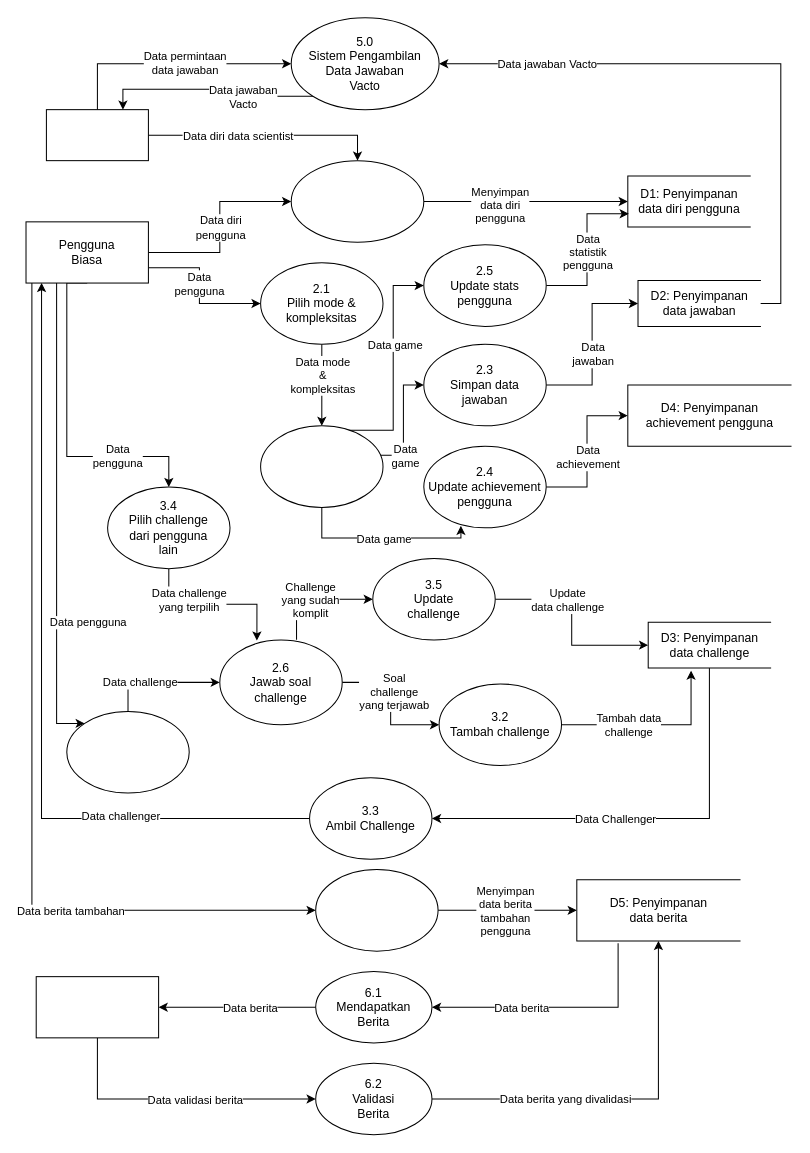
Some shapes in this 810 by 1153 pixel diagram are drawn without their labels. The centre of each missing label's shape, as x and y in pixels:
"1.0 Sistem Registrasi" belongs at (x=357, y=201).
"2.2 Jawab berita" belongs at (x=321, y=466).
"3.1 Pilih lawan" belongs at (x=127, y=751).
"4.0 Sistem Tambah Berita" belongs at (x=376, y=910).
"Admin" belongs at (x=97, y=1007).
"Data Scientist" belongs at (x=96, y=135).
